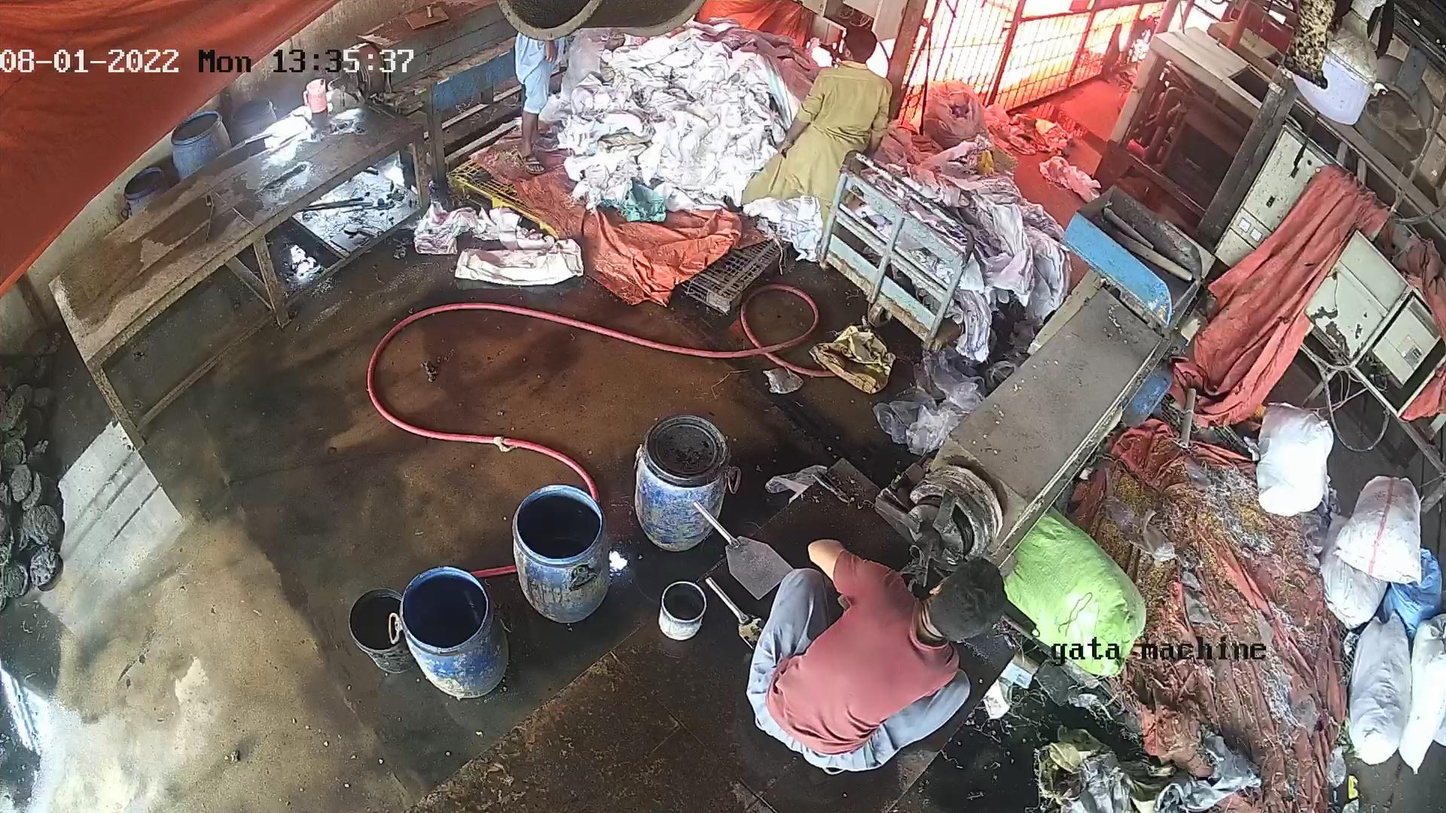person: (761, 574, 1006, 779), (750, 28, 882, 258)
